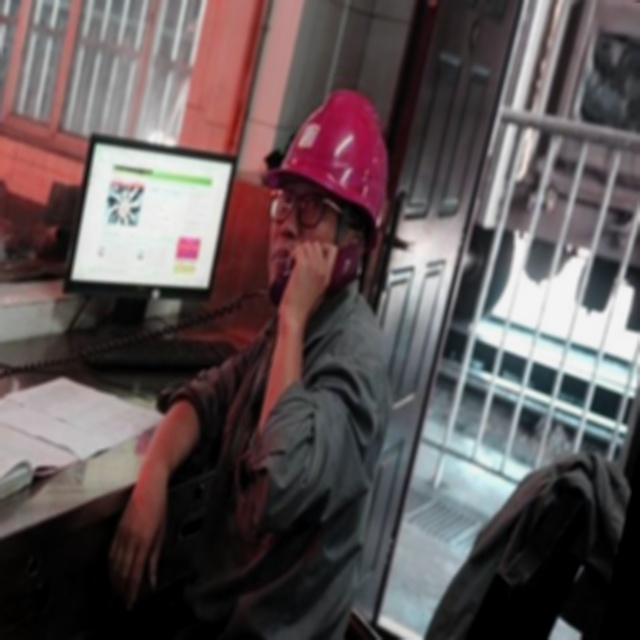Sin_Casco_Mascarrilla: (244, 77, 408, 320)
Sin_Chaleco: (176, 298, 409, 640)
